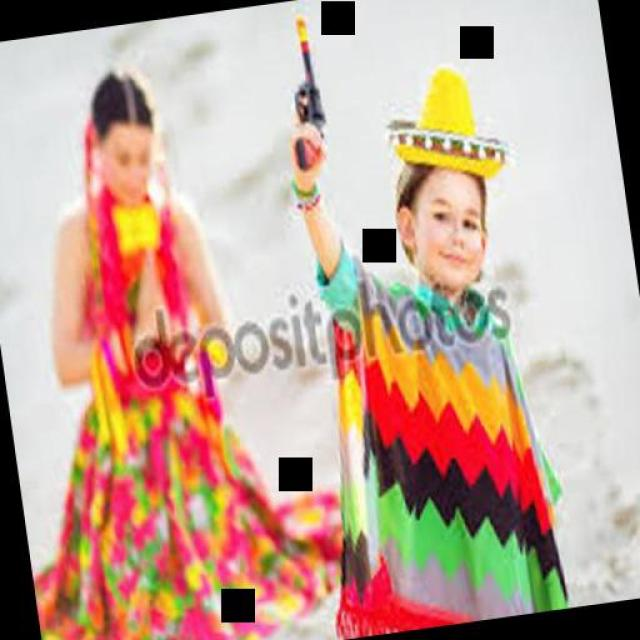gun: (269, 16, 345, 184)
